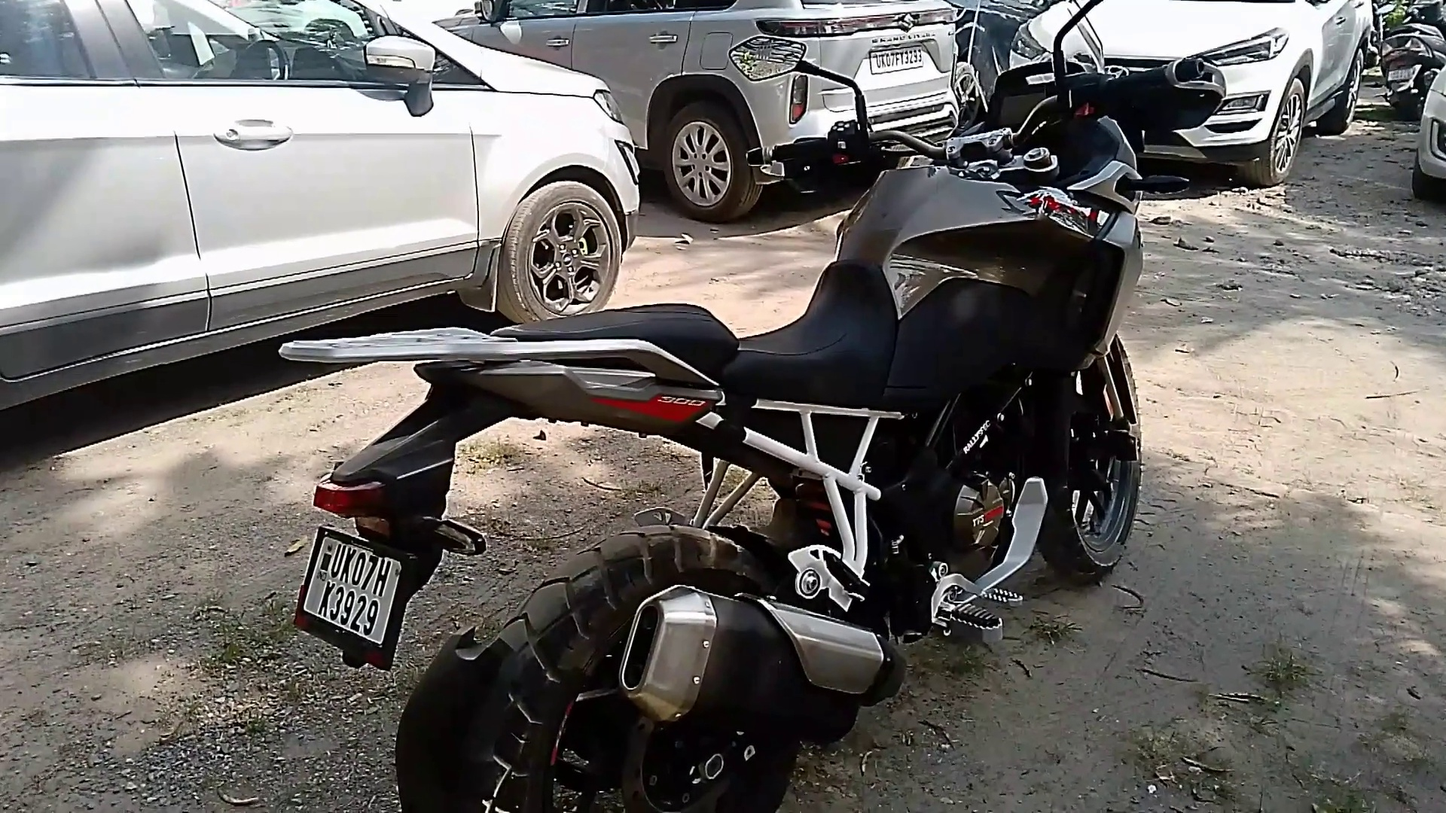bike-engine: (948, 463, 1018, 585)
